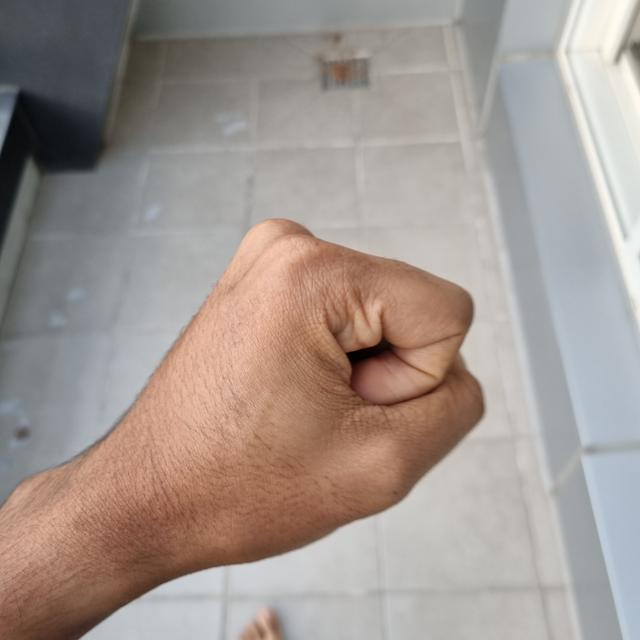Rock: (90, 222, 482, 570)
